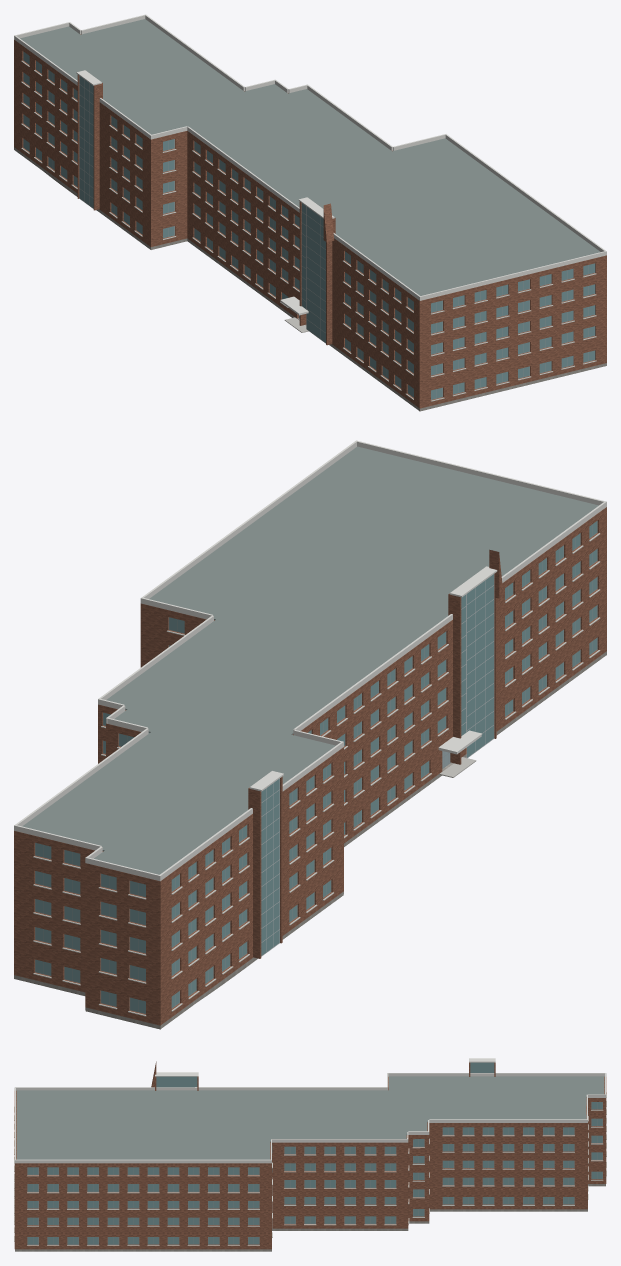
The picture shows the model from 3 angles, top to bottom: view 1: azimuth 30°, elevation 25°; view 2: azimuth 150°, elevation 25°; view 3: azimuth 270°, elevation 25°; orthographic projection. The views are drawn at different scales.
Visible parts, largest first — view 1: design__roof, design__wall, design__glass, design__cap, design__curtainglass, design__frame, design__band, design__plinth, design__mullion, design__foundation; view 2: design__roof, design__wall, design__glass, design__cap, design__curtainglass, design__frame, design__band, design__plinth, design__mullion, design__foundation; view 3: design__wall, design__roof, design__glass, design__cap, design__frame, design__band, design__plinth, design__curtainglass, design__foundation.
Boxes of the visible parts, x1=… form: design__roof: x1=20, y1=19, x2=600, y2=295; design__wall: x1=14, y1=34, x2=606, y2=408; design__glass: x1=23, y1=52, x2=594, y2=399; design__cap: x1=14, y1=14, x2=606, y2=314; design__curtainglass: x1=79, y1=76, x2=325, y2=342; design__frame: x1=23, y1=51, x2=595, y2=399; design__band: x1=21, y1=61, x2=596, y2=401; design__plinth: x1=14, y1=147, x2=606, y2=410; design__mullion: x1=79, y1=76, x2=325, y2=343; design__foundation: x1=14, y1=147, x2=606, y2=411; design__roof: x1=22, y1=446, x2=598, y2=874; design__wall: x1=14, y1=507, x2=606, y2=1025; design__glass: x1=35, y1=521, x2=597, y2=1013; design__cap: x1=14, y1=440, x2=606, y2=881; design__curtainglass: x1=261, y1=574, x2=493, y2=955; design__frame: x1=35, y1=521, x2=597, y2=1014; design__band: x1=33, y1=533, x2=600, y2=1016; design__plinth: x1=14, y1=651, x2=606, y2=1028; design__mullion: x1=261, y1=574, x2=494, y2=956; design__foundation: x1=14, y1=652, x2=606, y2=1029; design__wall: x1=14, y1=1061, x2=606, y2=1249; design__roof: x1=16, y1=1076, x2=604, y2=1159; design__glass: x1=27, y1=1097, x2=602, y2=1244; design__cap: x1=14, y1=1058, x2=606, y2=1163; design__frame: x1=27, y1=1102, x2=602, y2=1244; design__band: x1=14, y1=1092, x2=606, y2=1245; design__plinth: x1=15, y1=1177, x2=605, y2=1251; design__curtainglass: x1=156, y1=1062, x2=494, y2=1087; design__foundation: x1=15, y1=1184, x2=605, y2=1251.
Size of the model in its own units: 40.37 by 24.11 by 112.
Materials: 14 (4 with a texture image).
